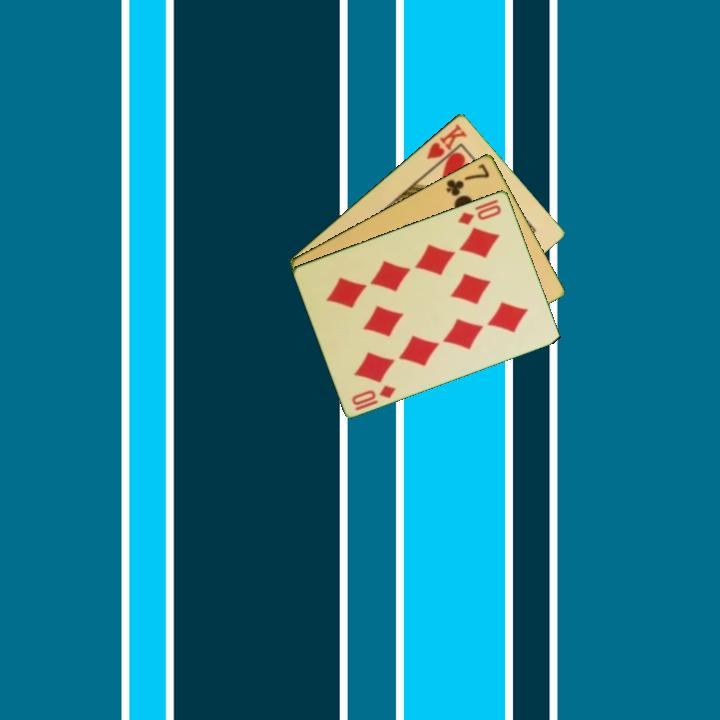10d: (454, 195, 504, 228), (348, 381, 399, 413)
7c: (442, 160, 492, 198)
Kh: (423, 120, 470, 170)
